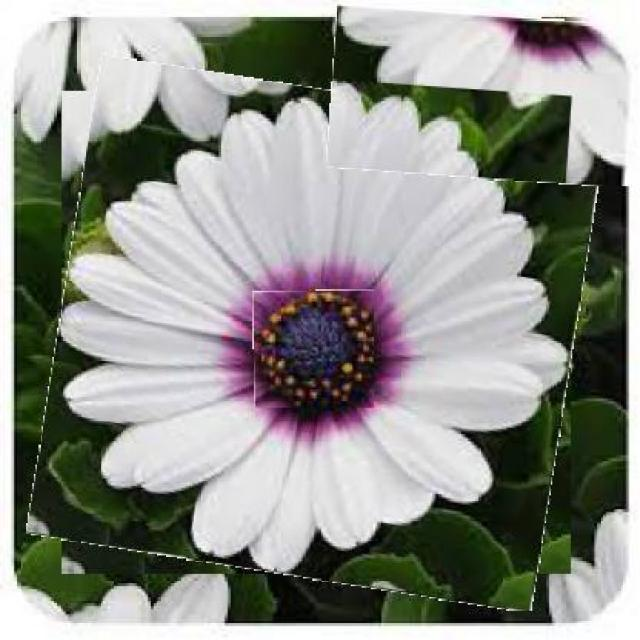Flower: (45, 72, 589, 594), (329, 10, 640, 184), (253, 290, 376, 410)
